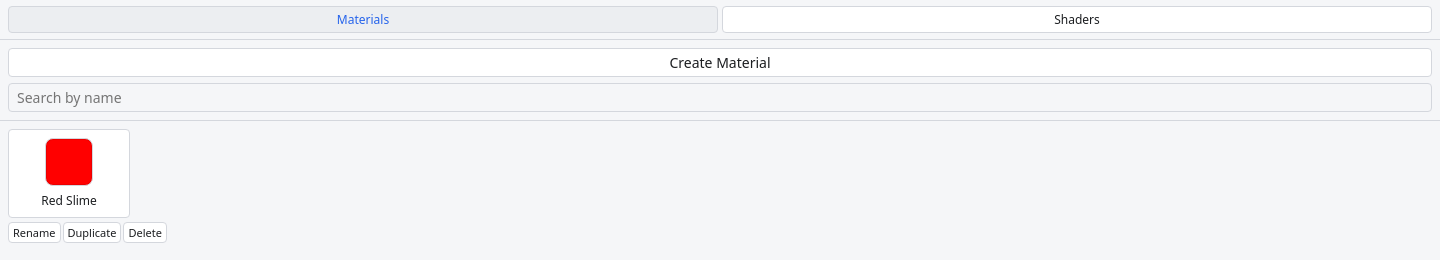
Test: MaterialsPanel › renames a material from the cell and updates the grid
The image size is (1440, 260).
Expected: the text "Red Slime" is shown, top-left (41, 192), bottom-right (97, 209)
Click the button with aria-label "Rename Red Slime".
click(34, 232)  # box top-left (8, 222), bottom-right (60, 243)
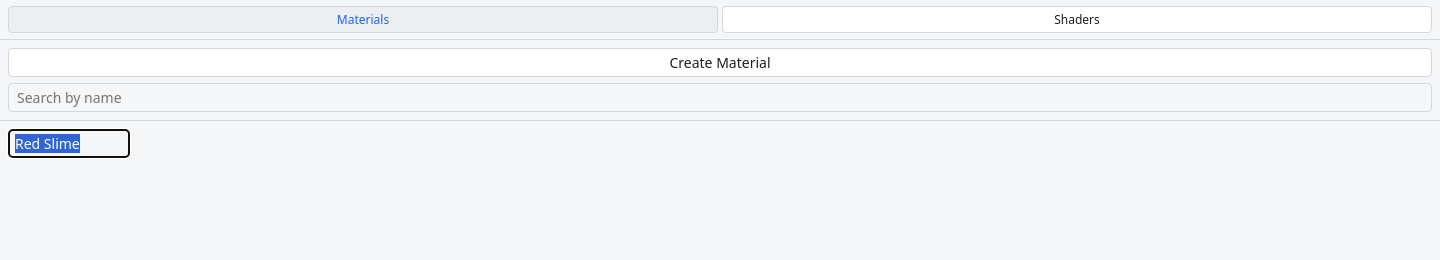
Replace the text in the field named "Material name" with "Ruby Slime" at (69, 144), box top-left (8, 129), bottom-right (130, 158)
Then press Enter
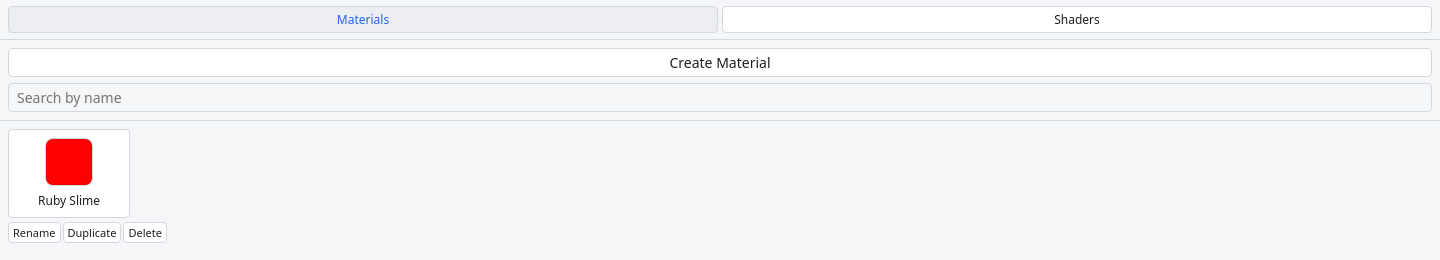
Expected: the button "Red Slime" is not shown
Now the text "Ruby Slime" is shown, box top-left (38, 192), bottom-right (100, 209)
